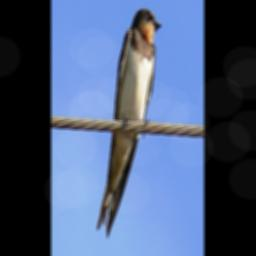Swallow: (96, 6, 163, 238)
